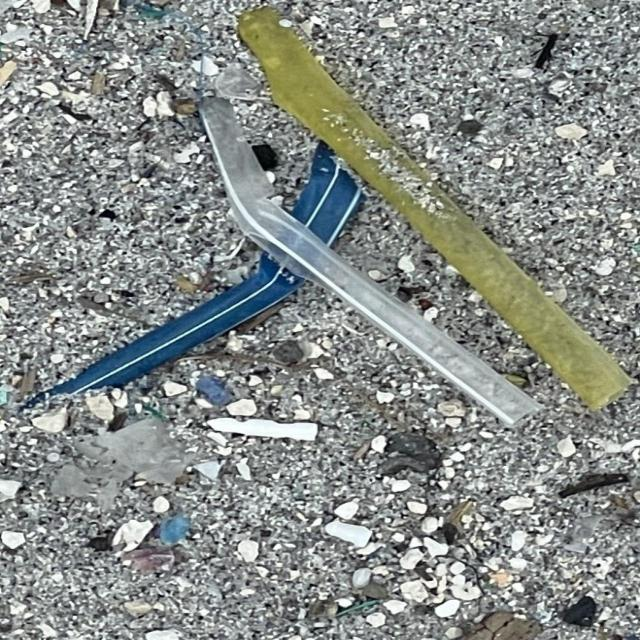litter: (197, 5, 639, 432)
